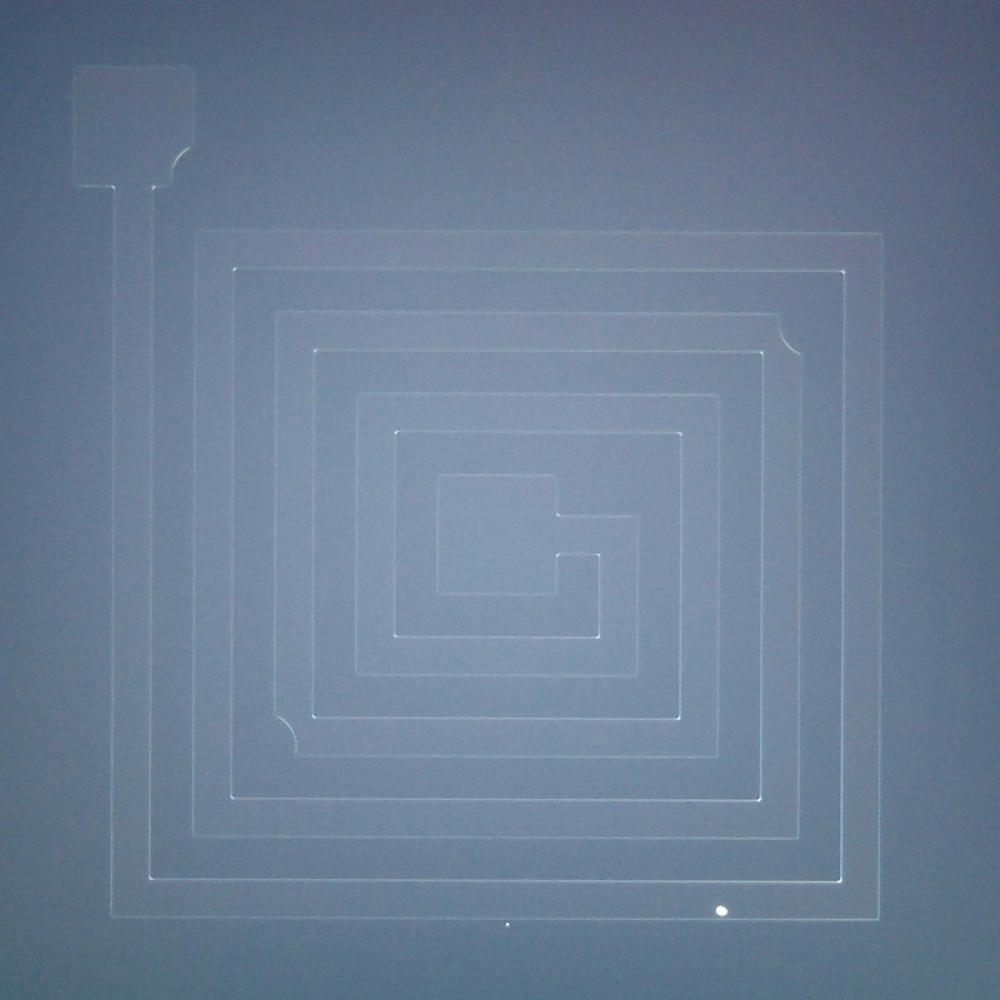dot: (716, 906, 727, 916), (505, 922, 510, 926)
